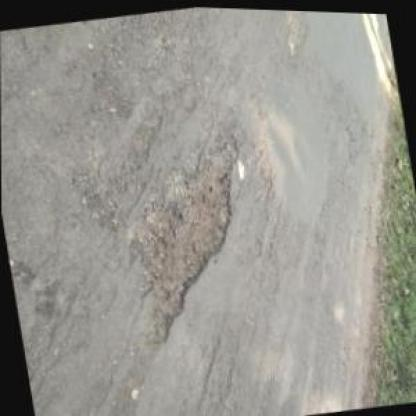pothole: (103, 120, 269, 354)
